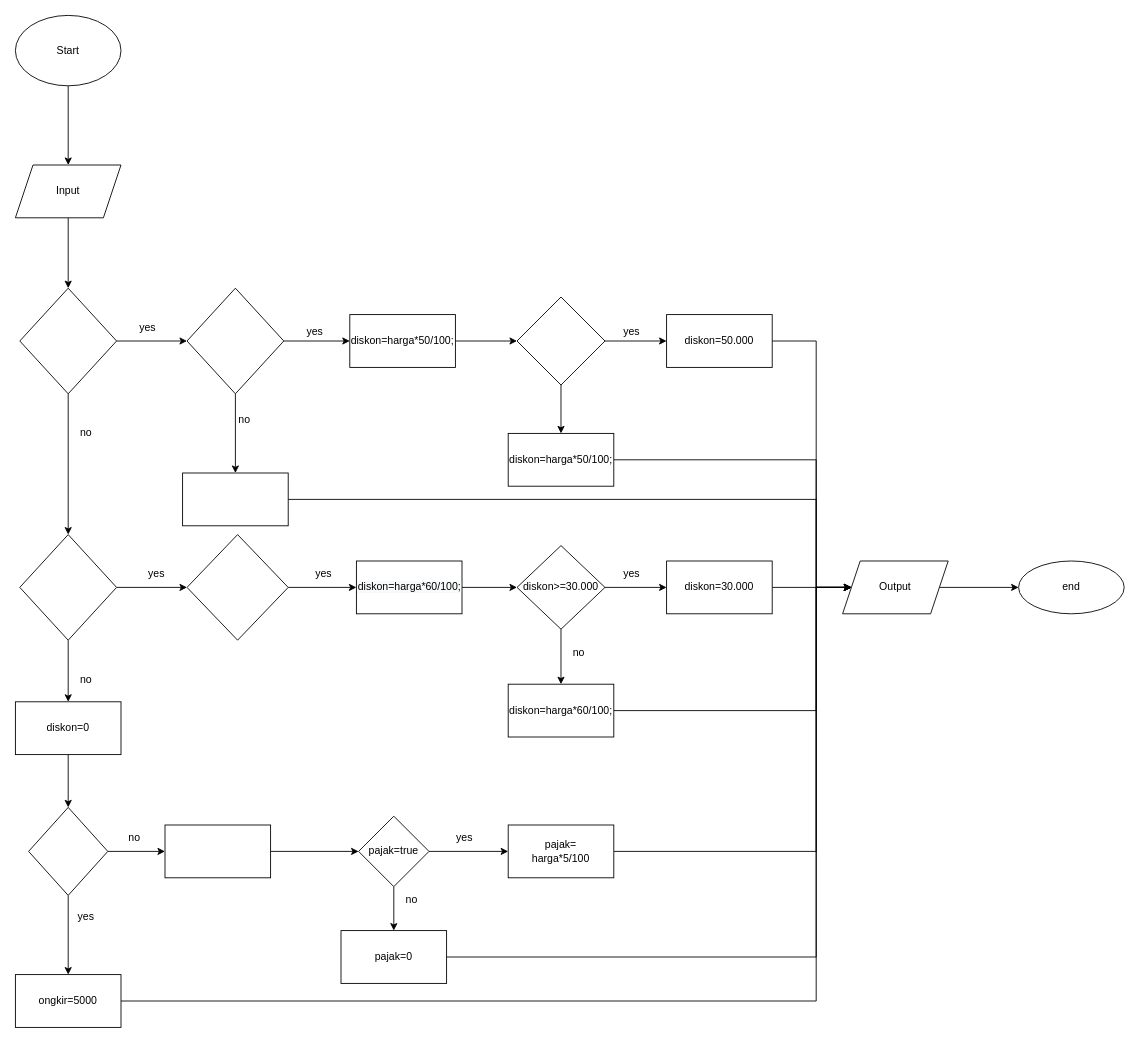
Some shapes in this 1140 by 1043 pixel diagram are drawn without their labels. The shapes that lost their labels are listed below. From the top down, each one's box as (x1, y1, x2, y2) in pixels, then its label:
(19, 287, 117, 394): voucher = arkfood
(186, 287, 284, 394): harga>=50.000
(516, 296, 605, 385): diskon>=50.000
(182, 472, 288, 526): diskon 0
(19, 534, 117, 640): voucher = DITRAKTIRDEMY
(186, 534, 288, 640): harga>=25.000
(28, 807, 108, 895): jarak<2km
(164, 824, 271, 878): ongkir=(((jarak-2)*3000)+5000)
